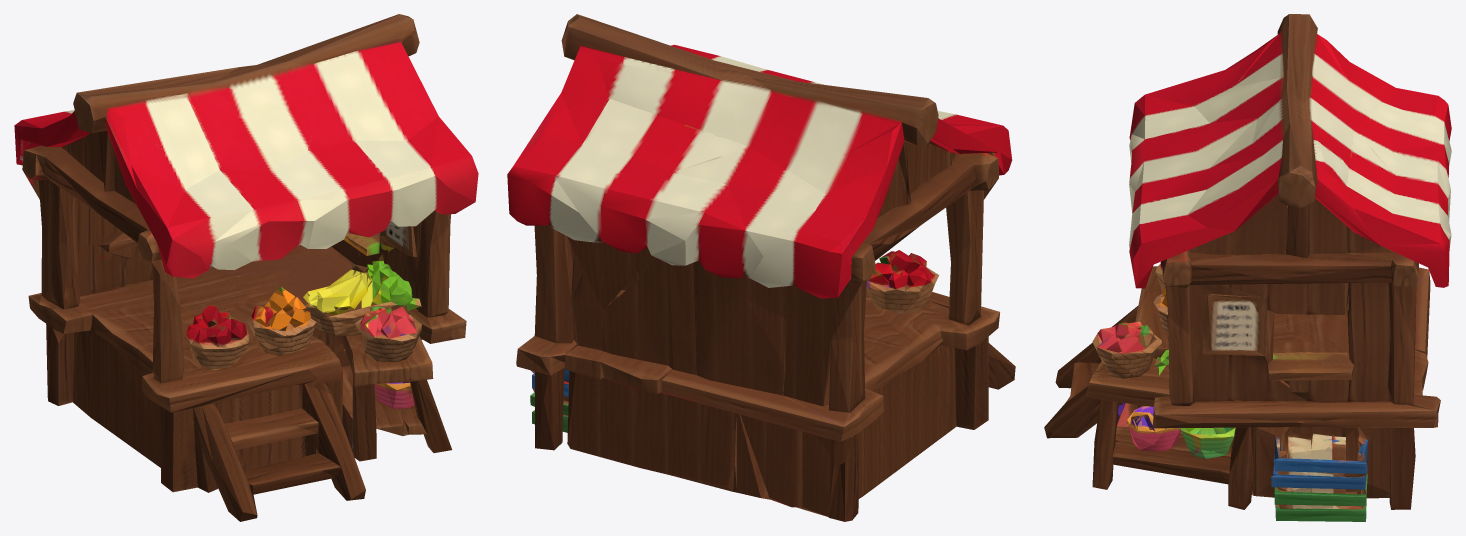
The picture shows the model from 3 angles, left to right: view 1: azimuth 30°, elevation 25°; view 2: azimuth 150°, elevation 25°; view 3: azimuth 270°, elevation 25°; orthographic projection. The views are drawn at different scales.
Size of the model in its own units: 1.78 by 1.8 by 1.89.
Materials: 1 (1 with a texture image).
